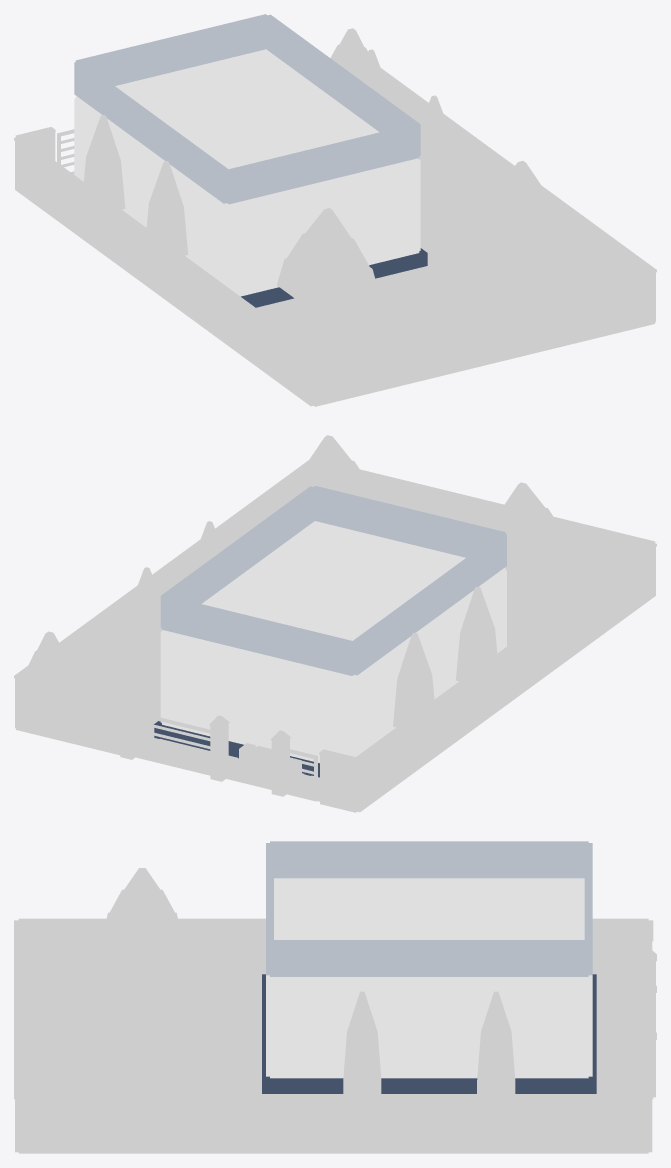
The model's file is DES-CANON-01_3D_Scene.gltf.
3 views of the same model, one above another, from view 1: azimuth 30°, elevation 25°; view 2: azimuth 150°, elevation 25°; view 3: azimuth 270°, elevation 25° (orthographic). The views are drawn at different scales.
Parts seen in each view (by area): view 1: Site & Landscape, Building Structure; view 2: Building Structure, Site & Landscape; view 3: Site & Landscape, Building Structure.
Boxes of the visible parts, left/top/right/bottom form: Site & Landscape: left=15, top=28, right=655, bottom=406; Building Structure: left=14, top=14, right=656, bottom=357; Building Structure: left=14, top=460, right=656, bottom=801; Site & Landscape: left=15, top=435, right=655, bottom=812; Site & Landscape: left=15, top=868, right=652, bottom=1153; Building Structure: left=14, top=841, right=656, bottom=1101.
Size of the model in its own units: 12.24 by 4.72 by 18.44.
